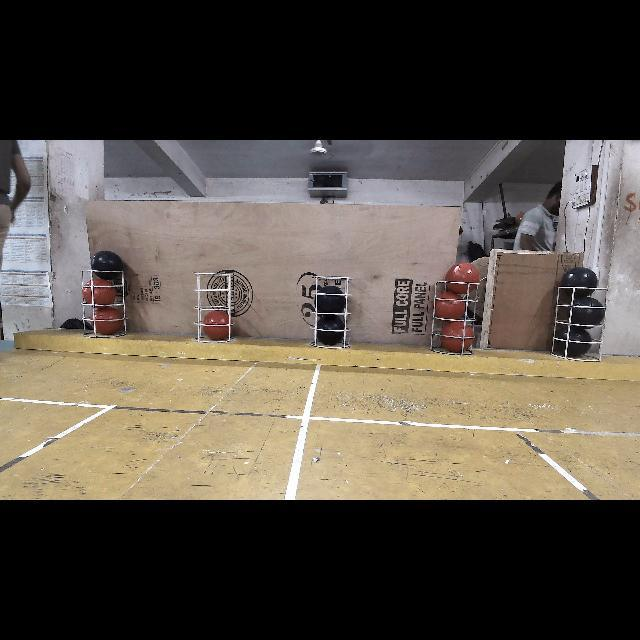P: (556, 326, 592, 358), (85, 250, 119, 280), (563, 268, 596, 297), (316, 318, 344, 344), (573, 300, 601, 326), (318, 290, 346, 314)
R: (448, 263, 479, 293), (440, 322, 472, 350), (86, 280, 120, 306), (434, 294, 464, 320), (204, 312, 232, 338), (91, 310, 123, 332)
S: (548, 283, 610, 365), (428, 276, 480, 358), (81, 268, 131, 342), (188, 270, 236, 346), (311, 274, 355, 354)
